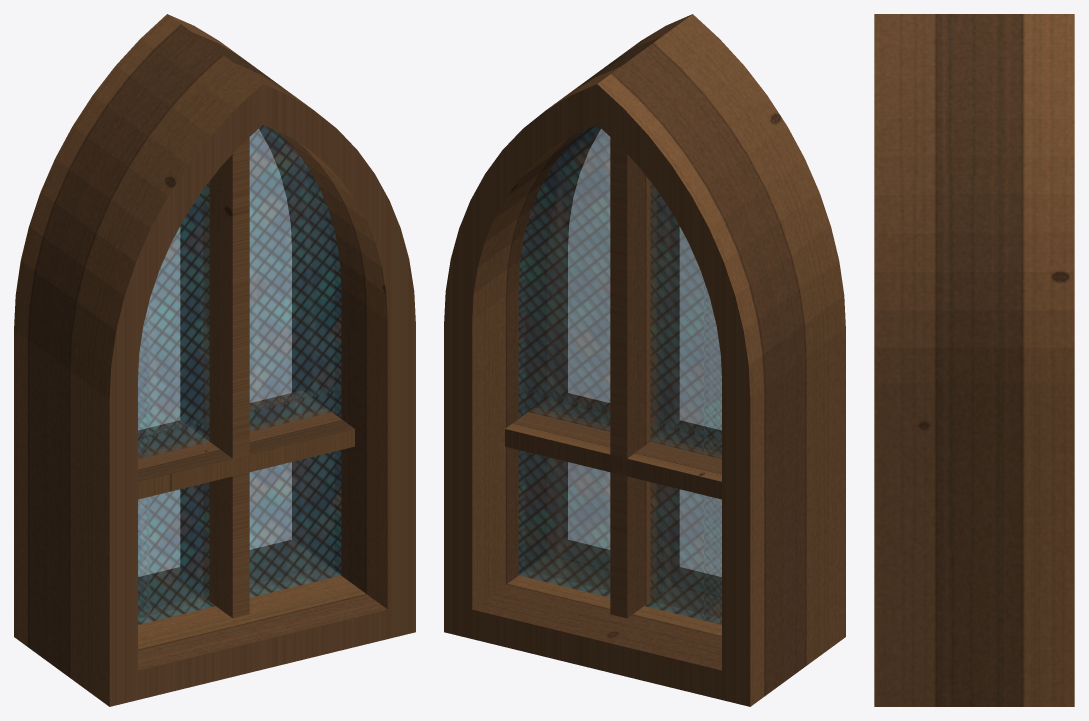
The model's file is CastleWallWindowFrame.glb.
The picture shows the model from 3 angles, left to right: view 1: azimuth 30°, elevation 25°; view 2: azimuth 150°, elevation 25°; view 3: azimuth 270°, elevation 25°; orthographic projection. The views are drawn at different scales.
Parts seen in each view (by area): view 1: castle_wall_window_frame; view 2: castle_wall_window_frame; view 3: castle_wall_window_frame.
Part boxes in pixels (left/top/right/bottom): castle_wall_window_frame: left=14, top=14, right=415, bottom=706; castle_wall_window_frame: left=444, top=14, right=845, bottom=706; castle_wall_window_frame: left=874, top=14, right=1074, bottom=706.
Bounding box in the file's own units: 0.814 × 1.49 × 0.44.
Materials: 2 (2 with a texture image).
